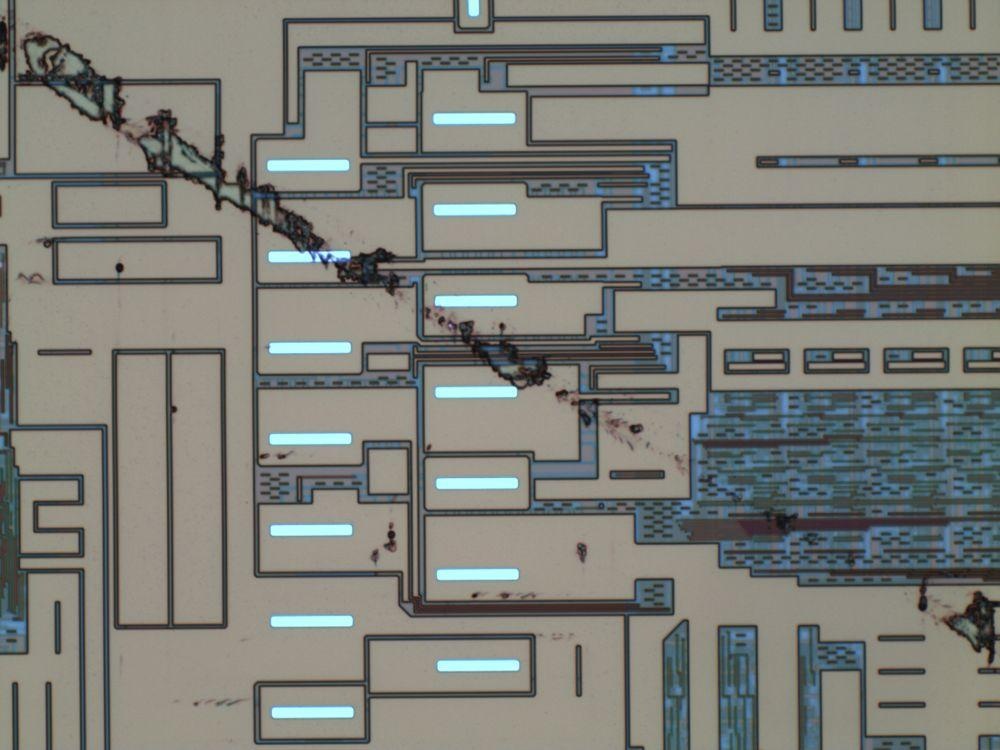SCRATCH: (1, 10, 1000, 672)
